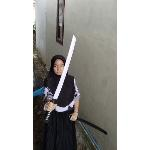Pedang: (40, 33, 80, 125)
